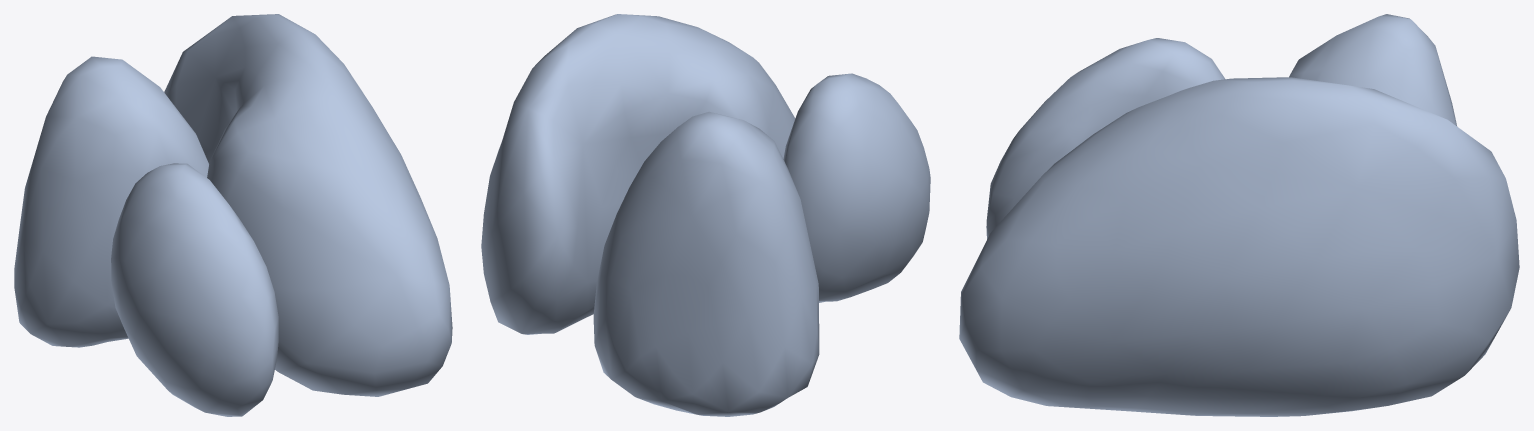
The picture shows the model from 3 angles, left to right: view 1: azimuth 30°, elevation 25°; view 2: azimuth 150°, elevation 25°; view 3: azimuth 270°, elevation 25°; orthographic projection. The views are drawn at different scales.
Visible parts, largest first — view 1: 右侧筛骨后群小房; view 2: 右侧筛骨后群小房; view 3: 右侧筛骨后群小房.
Boxes of the visible parts, left/top/right/bottom form: 右侧筛骨后群小房: left=14, top=14, right=452, bottom=416; 右侧筛骨后群小房: left=481, top=14, right=930, bottom=416; 右侧筛骨后群小房: left=959, top=14, right=1519, bottom=416.
Size of the model in its own units: 0.0141 by 0.0124 by 0.0181.
